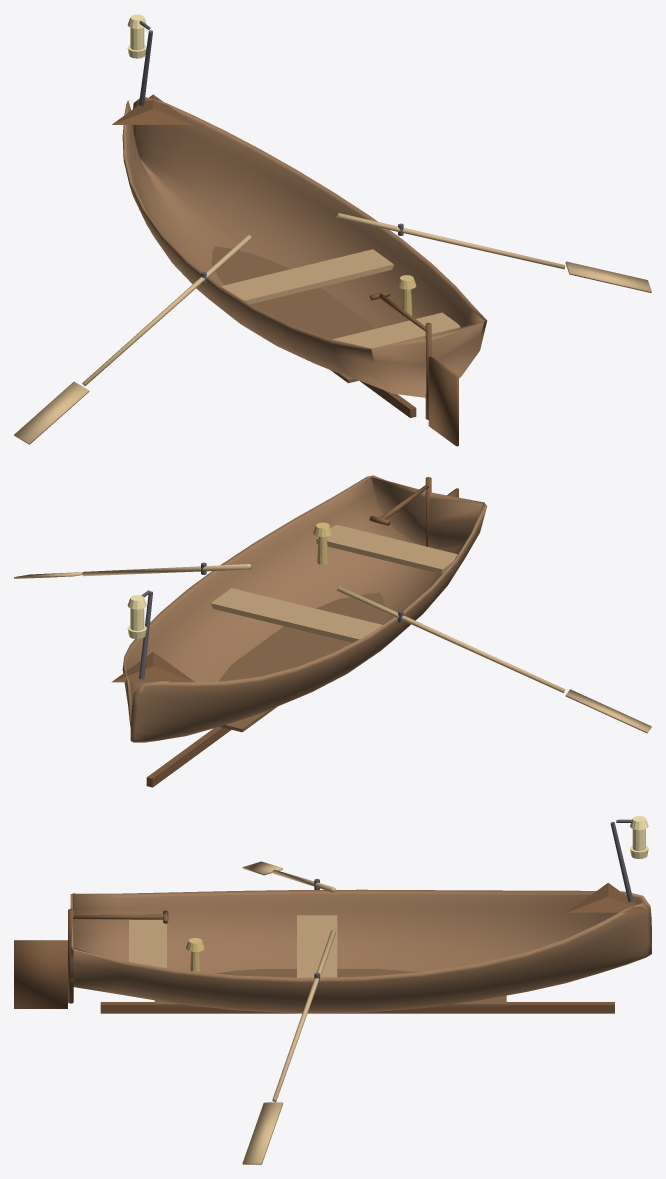
The model's file is Coop_Wooden_Boat.fbx.
The picture shows the model from 3 angles, top to bottom: view 1: azimuth 30°, elevation 25°; view 2: azimuth 150°, elevation 25°; view 3: azimuth 270°, elevation 25°; orthographic projection. The views are drawn at different scales.
Parts seen in each view (by area): view 1: Boat_Hull, Boat_Floor, Seat_Rower, Rudder_Assembly, Oar_Left, Oar_Right, Seat_Navigator, Bow_Deck, Lantern_Lamp; view 2: Boat_Hull, Boat_Floor, Seat_Rower, Seat_Navigator, Oar_Left, Bow_Deck, Oar_Right, Boat_Keel, Rudder_Assembly, Lantern_Lamp, Compass_Stand, Lantern_Post; view 3: Boat_Hull, Rudder_Assembly, Boat_Keel, Seat_Rower, Oar_Right, Boat_Floor, Seat_Navigator, Bow_Deck, Oar_Left, Lantern_Lamp, Lantern_Post.
Part boxes in pixels (box(x1,y1,x2,y2)): Boat_Hull: box(122, 97, 487, 397); Boat_Floor: box(211, 246, 373, 383); Seat_Rower: box(221, 249, 393, 304); Rudder_Assembly: box(369, 291, 458, 446); Oar_Left: box(14, 234, 251, 444); Oar_Right: box(336, 213, 651, 292); Seat_Navigator: box(332, 312, 460, 348); Bow_Deck: box(112, 94, 194, 124); Lantern_Lamp: box(127, 14, 146, 58); Boat_Hull: box(122, 475, 487, 742); Boat_Floor: box(219, 592, 385, 732); Seat_Rower: box(211, 588, 382, 642); Seat_Navigator: box(316, 525, 457, 574); Oar_Left: box(337, 586, 651, 733); Bow_Deck: box(111, 651, 194, 682); Oar_Right: box(14, 564, 251, 578); Boat_Keel: box(146, 726, 231, 787); Rudder_Assembly: box(369, 477, 458, 546); Lantern_Lamp: box(127, 595, 146, 639); Compass_Stand: box(313, 522, 332, 564); Lantern_Post: box(139, 590, 152, 679); Boat_Hull: box(70, 889, 651, 1013); Rudder_Assembly: box(14, 909, 168, 1008); Boat_Keel: box(100, 1002, 614, 1013); Seat_Rower: box(297, 915, 337, 977); Oar_Right: box(242, 930, 336, 1164); Boat_Floor: box(154, 969, 506, 1007); Seat_Navigator: box(129, 919, 166, 968); Bow_Deck: box(567, 883, 648, 912); Oar_Left: box(242, 861, 336, 892); Lantern_Lamp: box(630, 816, 648, 858); Lantern_Post: box(610, 819, 633, 901).
Bounding box in the file's own units: 5.28 × 1.61 × 4.71.
